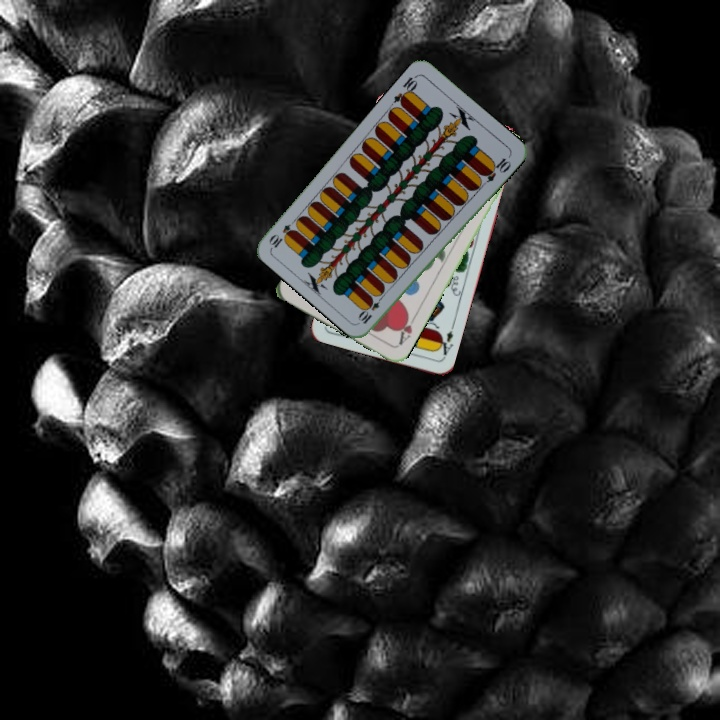E10: (389, 71, 420, 109), (356, 290, 387, 327)
EA: (433, 326, 456, 361)
HA: (394, 309, 419, 348)
